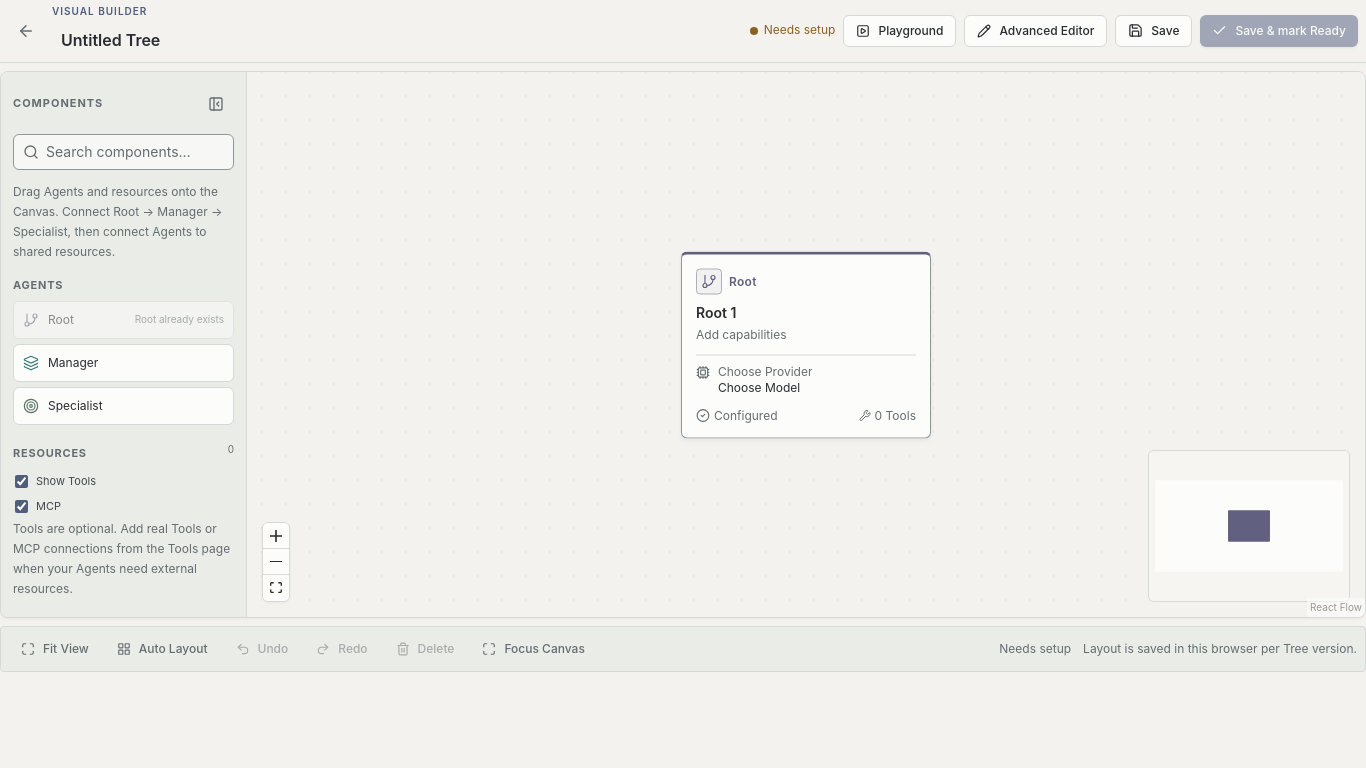
Test: Builder integration › does not send an invalid blank Tree name to readiness preview
Expected: the heading "Components" is shown, [13, 96, 103, 111]
Clear the field named "Tree name" at (244,40), box [52, 22, 436, 58]
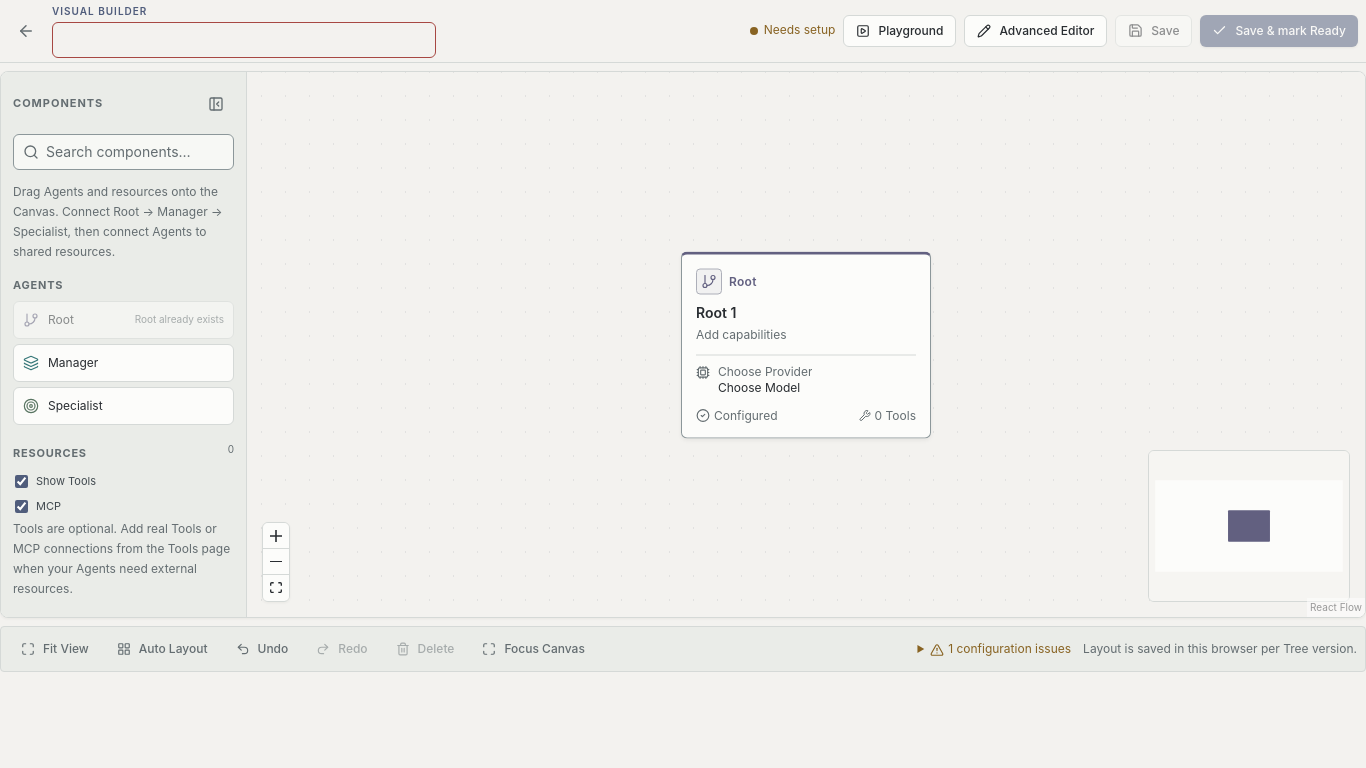
Expected: the button "Save & mark Ready" is disabled, [1200, 15, 1358, 47]
Result: the button "Save" is disabled at [1115, 15, 1192, 47]
